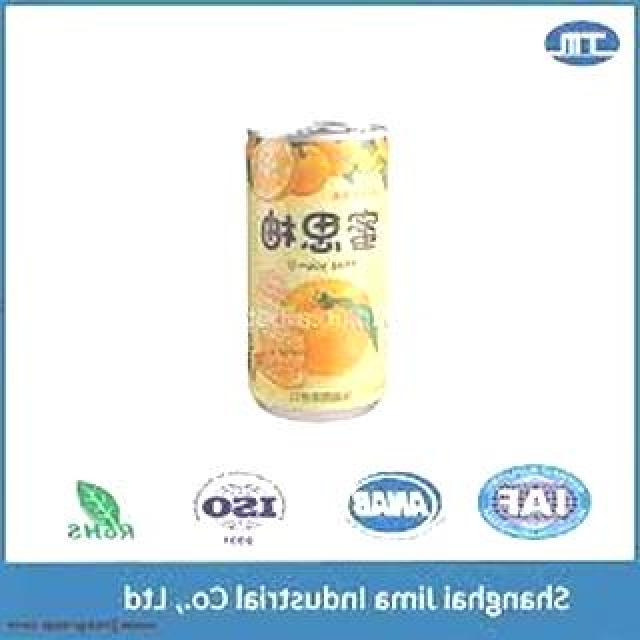Can: (228, 119, 398, 427)
